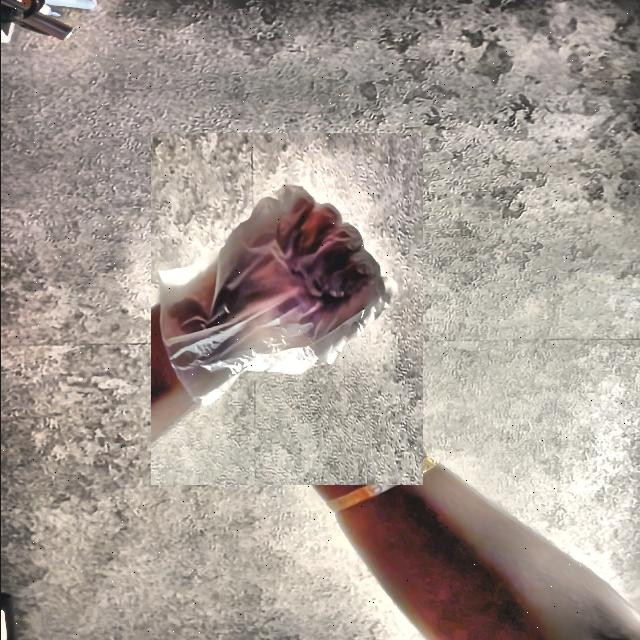gloved: (130, 153, 442, 465)
